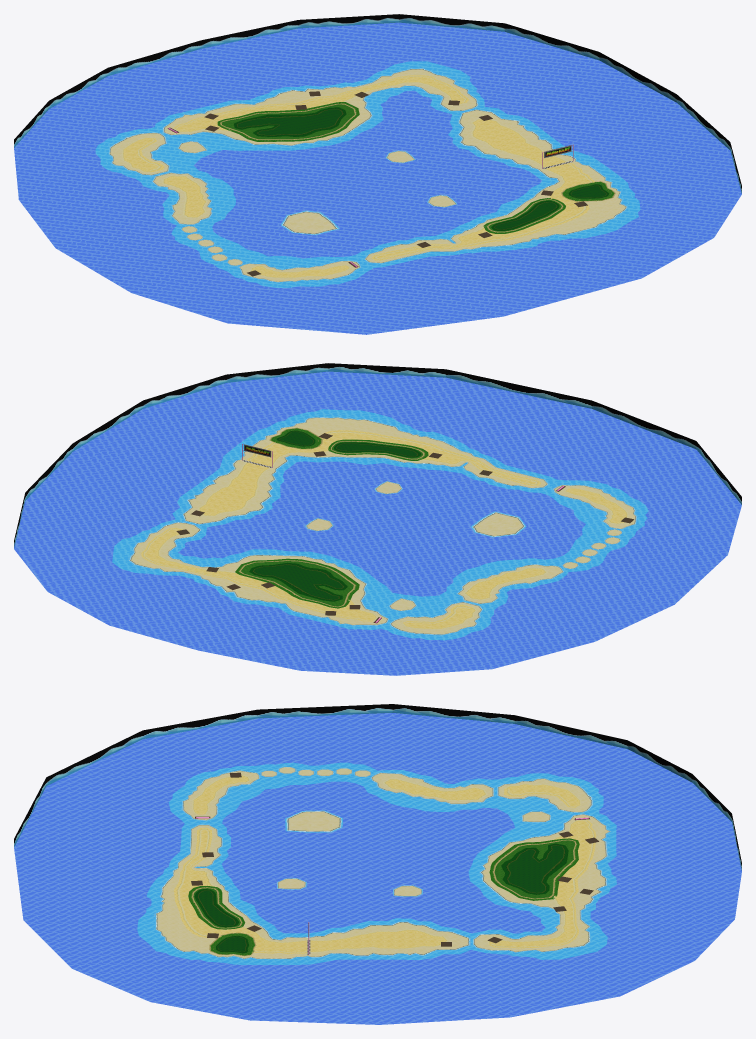
Rendered from course.glb.
The picture shows the model from 3 angles, top to bottom: view 1: azimuth 30°, elevation 25°; view 2: azimuth 150°, elevation 25°; view 3: azimuth 270°, elevation 25°; orthographic projection. The views are drawn at different scales.
Parts seen in each view (by area): view 1: polygon27, polygon26, polygon5, polygon24, polygon6, polygon0, polygon7, polygon42, polygon51, polygon43, polygon55, polygon8; view 2: polygon27, polygon26, polygon5, polygon24, polygon6, polygon0, polygon7, polygon42, polygon51, polygon43, polygon55, polygon8; view 3: polygon27, polygon26, polygon5, polygon24, polygon6, polygon0, polygon7, polygon42, polygon51, polygon43, polygon55, polygon8.
Boxes of the visible parts, box(x1,y1,x2,y2) form: polygon27: box(14, 22, 741, 334); polygon26: box(95, 61, 640, 287); polygon5: box(111, 70, 624, 281); polygon24: box(14, 14, 741, 193); polygon6: box(125, 76, 590, 276); polygon0: box(108, 68, 627, 282); polygon7: box(122, 75, 594, 277); polygon42: box(237, 109, 606, 229); polygon51: box(217, 102, 615, 233); polygon43: box(221, 104, 611, 231); polygon55: box(234, 107, 609, 230); polygon8: box(167, 91, 587, 276); polygon27: box(14, 371, 741, 675); polygon26: box(112, 409, 648, 640); polygon5: box(132, 418, 634, 633); polygon24: box(14, 363, 741, 547); polygon6: box(144, 432, 624, 627); polygon0: box(128, 417, 637, 635); polygon7: box(141, 430, 628, 629); polygon42: box(254, 431, 416, 599); polygon51: box(235, 427, 428, 608); polygon43: box(241, 429, 422, 606); polygon55: box(249, 430, 421, 601); polygon8: box(176, 433, 633, 623); polygon27: box(14, 713, 741, 1024); polygon26: box(137, 762, 616, 964); polygon5: box(158, 767, 608, 958); polygon24: box(14, 704, 741, 870); polygon6: box(179, 777, 592, 952); polygon0: box(154, 767, 611, 959); polygon7: box(174, 775, 596, 954); polygon42: box(199, 845, 563, 951); polygon51: box(188, 838, 579, 956); polygon43: box(193, 840, 575, 954); polygon55: box(194, 843, 568, 953); polygon8: box(191, 772, 598, 946).
Size of the model in its own units: 702 by 18.29 by 691.
Materials: 15 (15 with a texture image).
